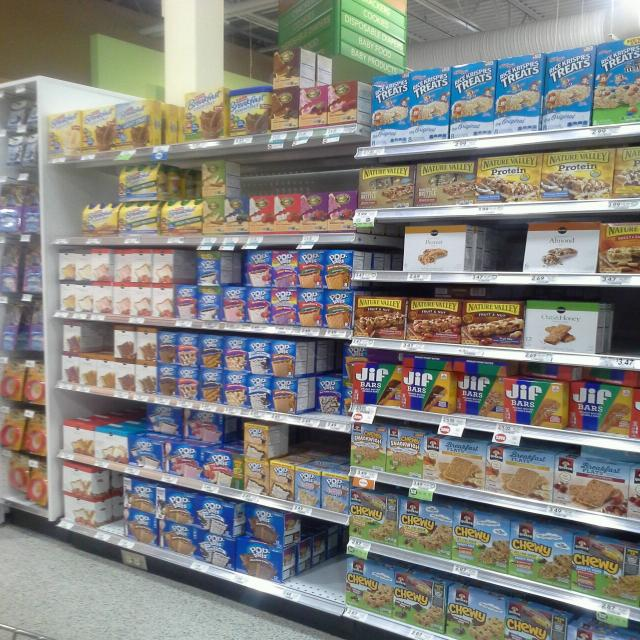empty: (285, 510, 345, 603), (455, 219, 531, 275), (351, 220, 408, 281), (599, 295, 640, 374), (55, 177, 87, 237)
